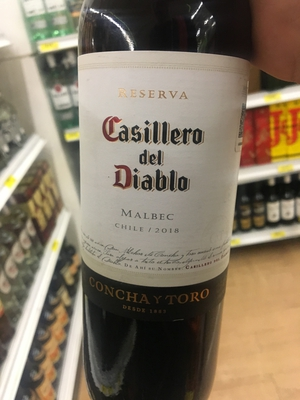casillero del diablo malbec: (67, 11, 277, 381)
